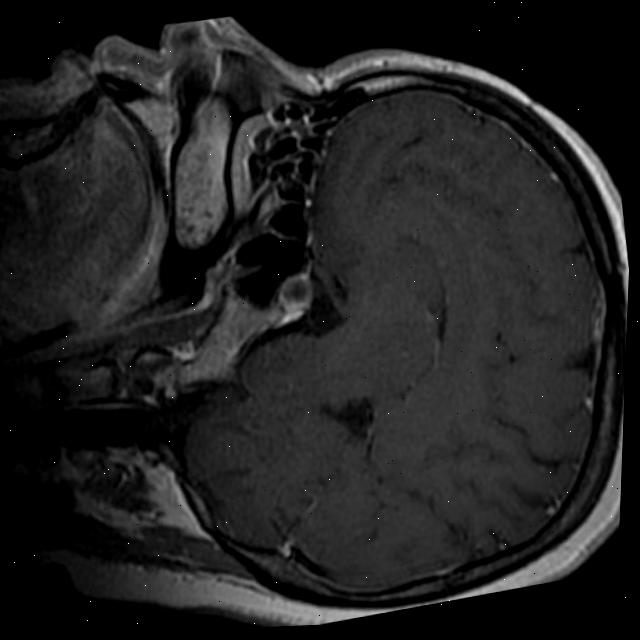Pituitary: (273, 271, 314, 319)
